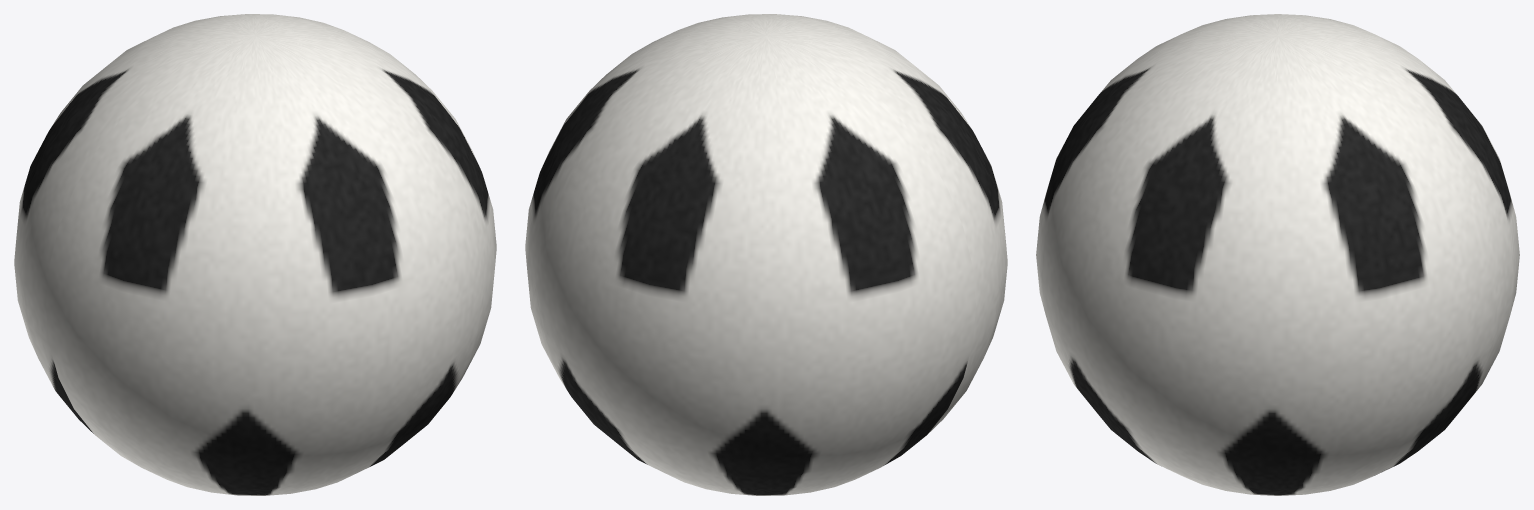
The model's file is bola.glb.
The picture shows the model from 3 angles, left to right: view 1: azimuth 30°, elevation 25°; view 2: azimuth 150°, elevation 25°; view 3: azimuth 270°, elevation 25°; orthographic projection.
Parts seen in each view (by area): view 1: bola; view 2: bola; view 3: bola.
Part boxes in pixels (x1,y1,x2,y2): bola: (14, 14, 496, 495); bola: (525, 14, 1007, 495); bola: (1036, 14, 1519, 495).
Size of the model in its own units: 0.22 by 0.22 by 0.22.
1 material, 1 textured.
